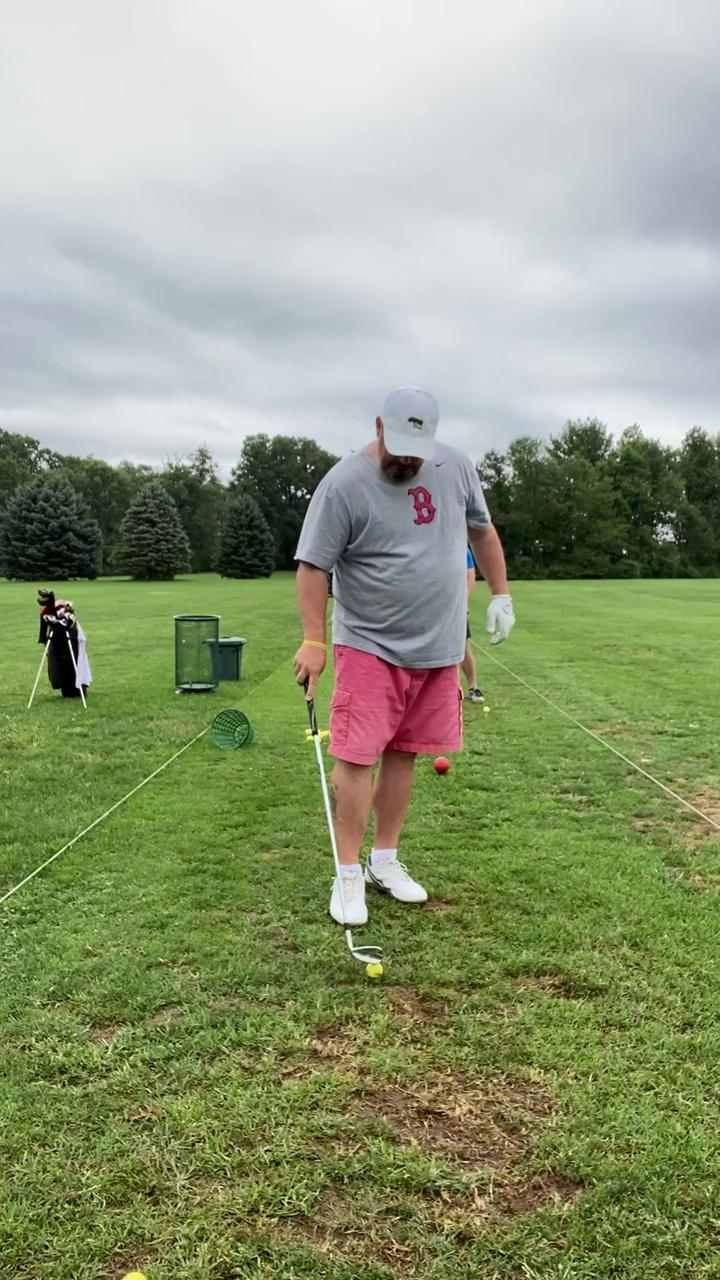ClubHead: (343, 924, 388, 977)
